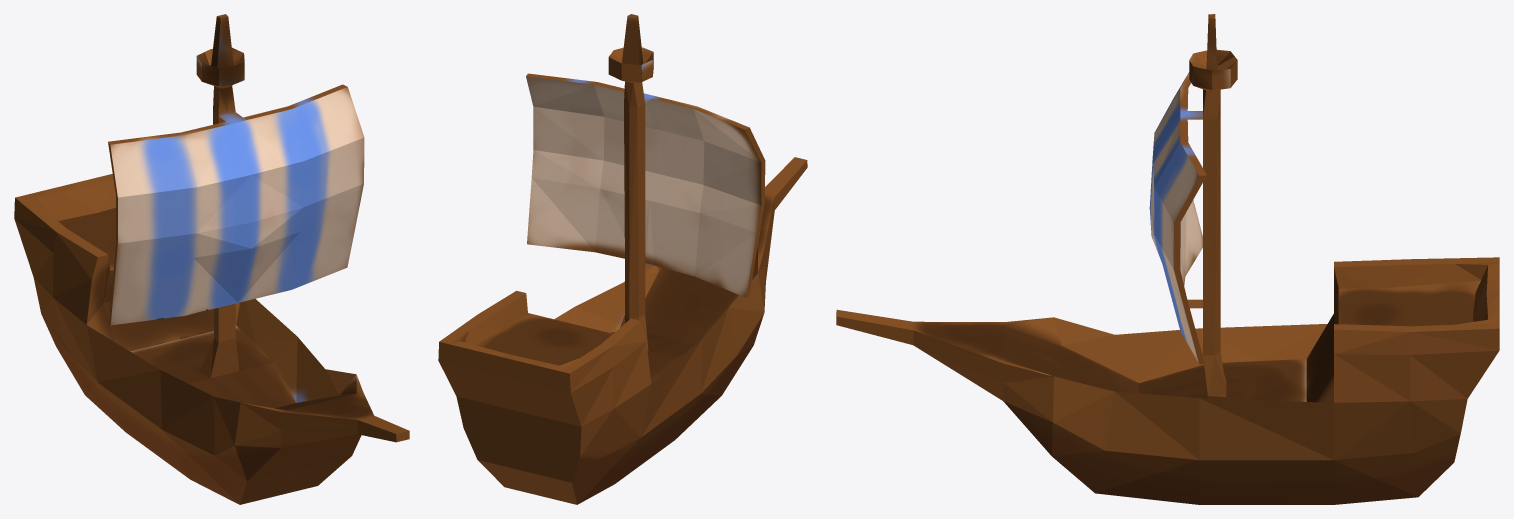
File: pirateship.dae
3 renders of one model, left to right at view 1: azimuth 30°, elevation 25°; view 2: azimuth 150°, elevation 25°; view 3: azimuth 270°, elevation 25°, orthographic. The views are drawn at different scales.
Visible parts, largest first — view 1: Cube; view 2: Cube; view 3: Cube.
Part boxes in pixels (x1=…): Cube: x1=14, y1=14, x2=409, y2=504; Cube: x1=438, y1=14, x2=807, y2=504; Cube: x1=836, y1=14, x2=1499, y2=504.
Size of the model in its own units: 4.41 by 9.86 by 7.69.
1 material, 1 textured.
